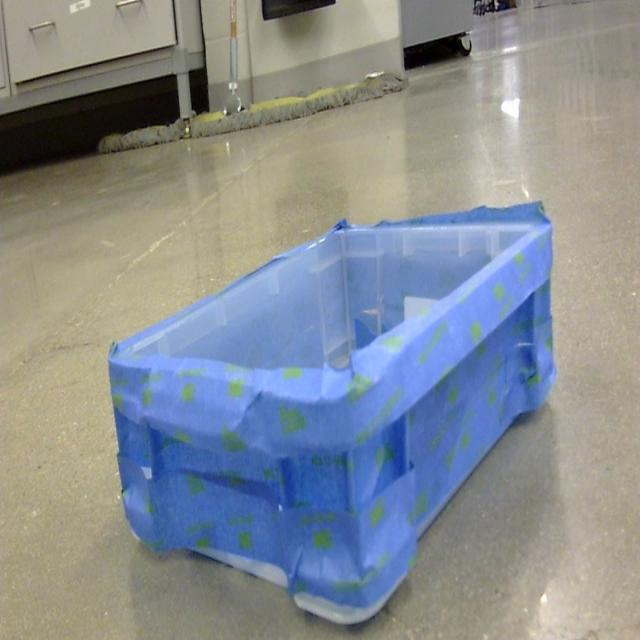bucket: (108, 202, 558, 629)
